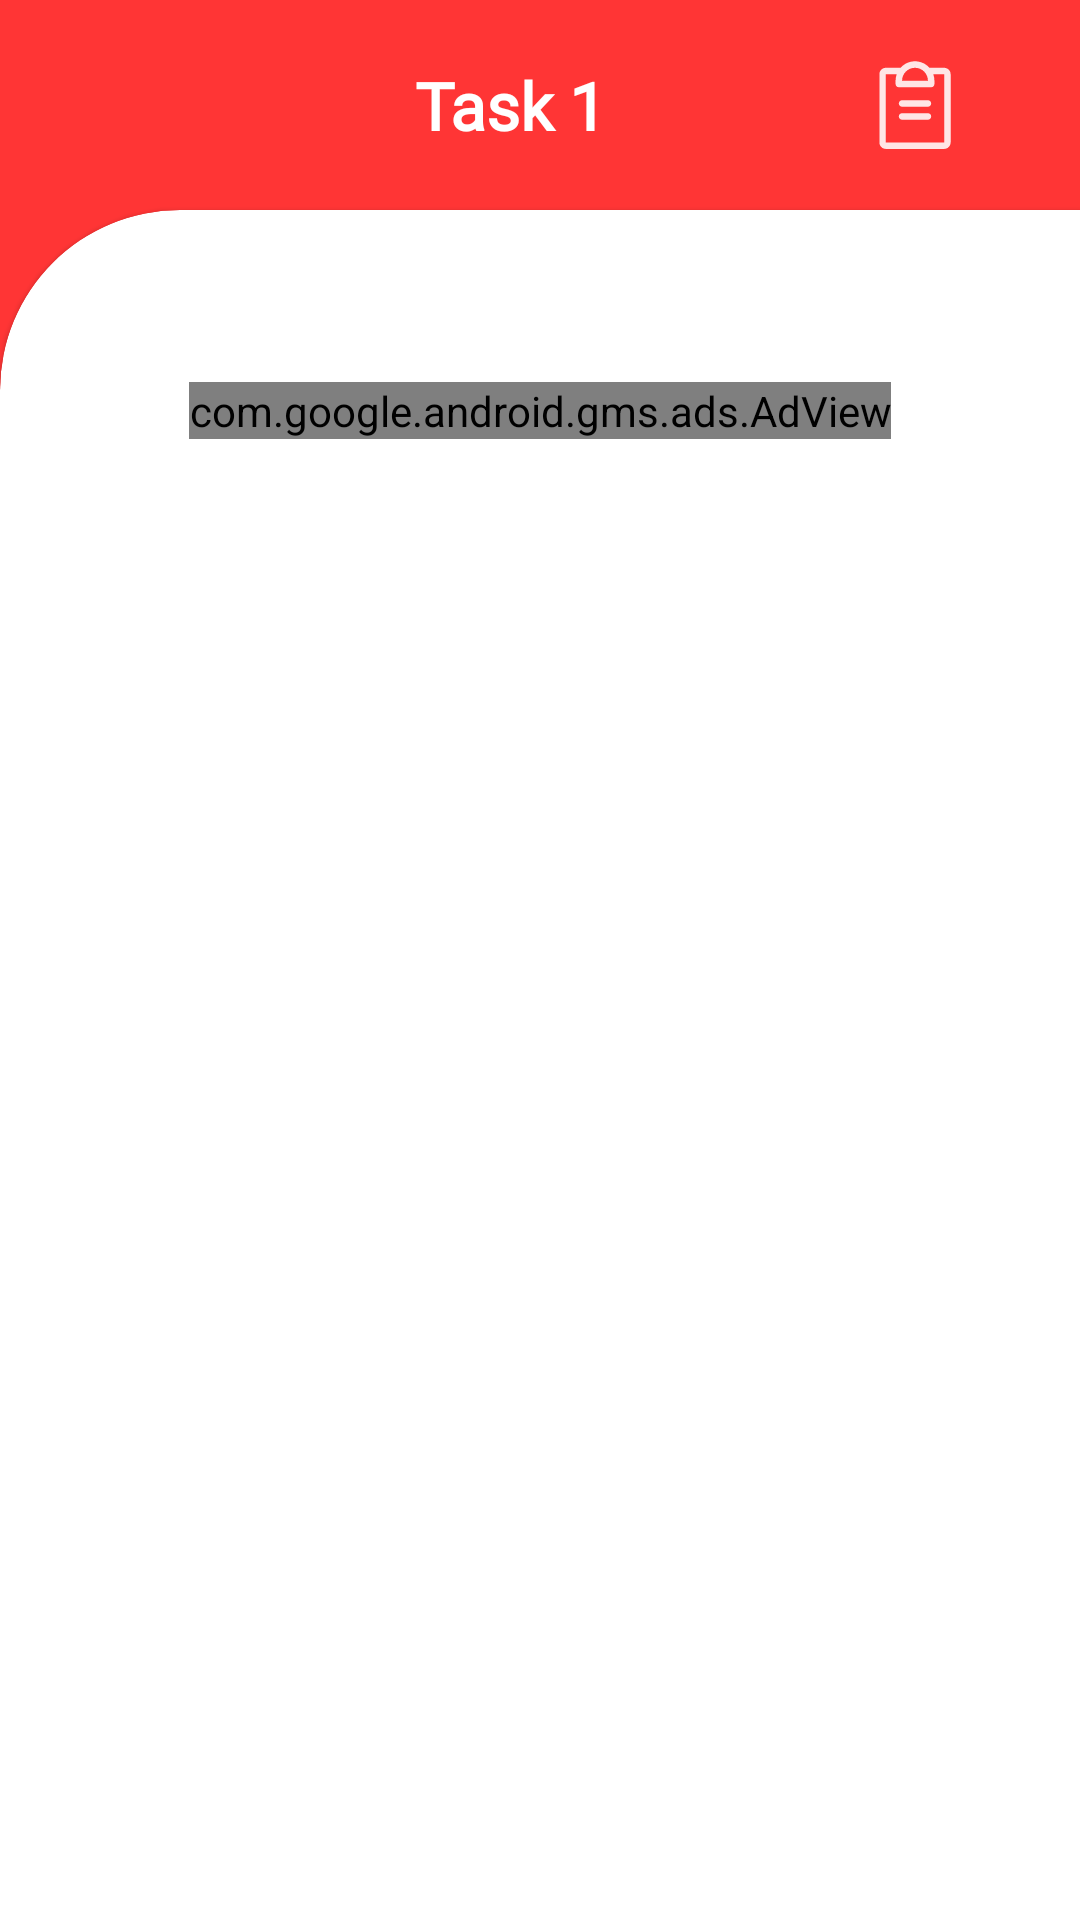

Named icons in this screenshot (1080px×1920px) and their centers, point (x, y):
task: point (915, 105)
